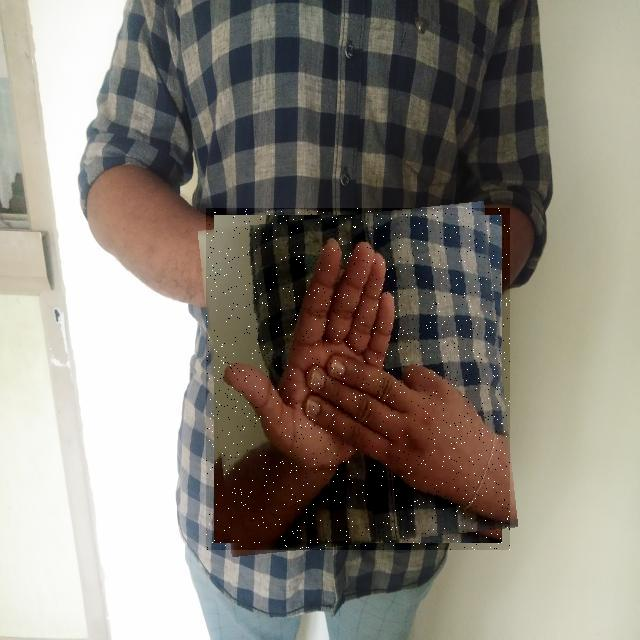M: (207, 208, 510, 550)
